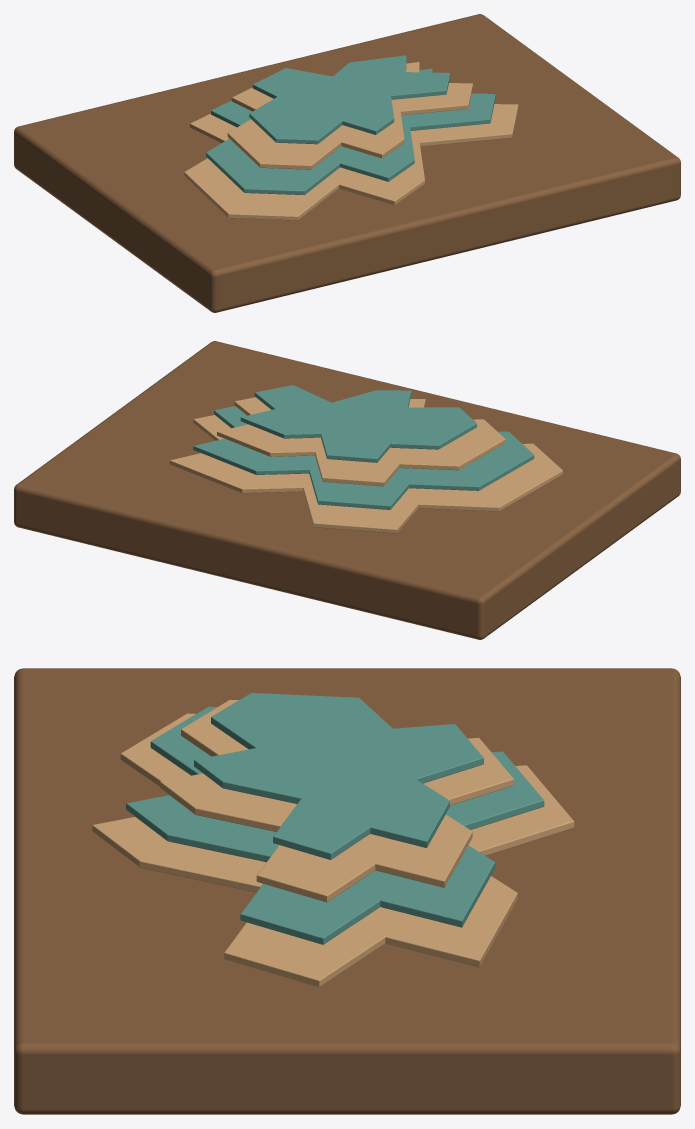
Rendered from fantasy-cartographers-map-printing-guild-relief-terrai-55f0af68__32267.glb.
3 renders of one model, top to bottom at view 1: azimuth 30°, elevation 25°; view 2: azimuth 150°, elevation 25°; view 3: azimuth 270°, elevation 25°, orthographic. The views are drawn at different scales.
Visible parts, largest first — view 1: relief-terrain-model; view 2: relief-terrain-model; view 3: relief-terrain-model.
Boxes of the visible parts, box(x1,y1,x2,y2) form: relief-terrain-model: box(14, 14, 680, 312); relief-terrain-model: box(14, 341, 680, 639); relief-terrain-model: box(14, 668, 680, 1114).
Size of the model in its own units: 1.15 by 0.215 by 0.85.
